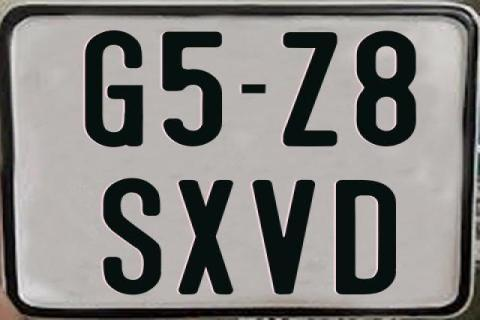0: (355, 30, 416, 148), (161, 29, 221, 147)
D: (333, 177, 395, 293)
G: (84, 29, 146, 145)
S: (102, 176, 164, 294)
V: (252, 180, 321, 297)
X: (178, 178, 236, 294)
Z: (284, 31, 338, 145)
